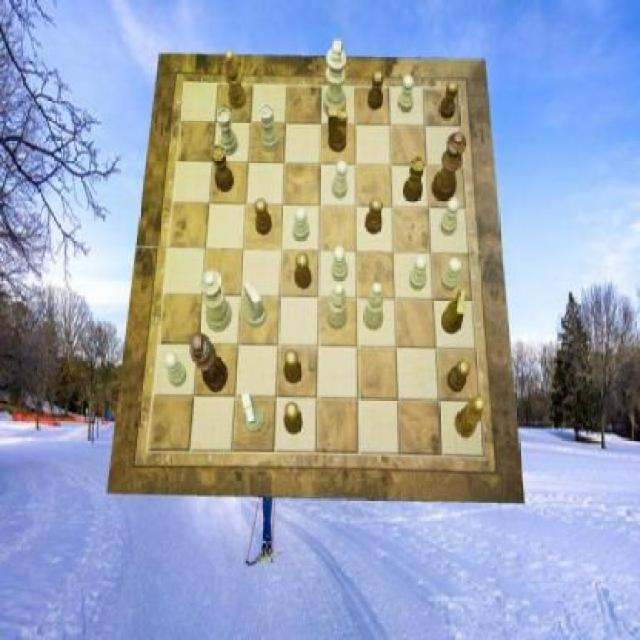bishop: (456, 398, 486, 438), (226, 51, 246, 111)
black-bishop: (190, 334, 228, 394)
black-king: (442, 289, 468, 335), (328, 109, 348, 153)
black-knight: (440, 82, 460, 120), (448, 358, 470, 392), (284, 402, 304, 436), (255, 198, 273, 234), (294, 252, 311, 290), (365, 198, 382, 234), (368, 71, 383, 111), (285, 349, 302, 384)
black-pawn: (432, 132, 468, 202)
black-queen: (211, 145, 234, 192), (403, 156, 425, 202)
black-rook: (363, 283, 383, 331), (328, 283, 348, 329)
white-bishop: (323, 40, 347, 118)
white-king: (245, 282, 268, 328), (242, 392, 266, 434)
white-knight: (165, 352, 188, 387), (440, 199, 460, 236), (440, 257, 461, 291), (398, 75, 416, 114), (332, 246, 350, 282), (409, 254, 427, 290), (332, 160, 348, 198), (294, 208, 311, 242)
white-pawn: (202, 271, 232, 332)
white-queen: (217, 109, 239, 157), (260, 105, 280, 152)
